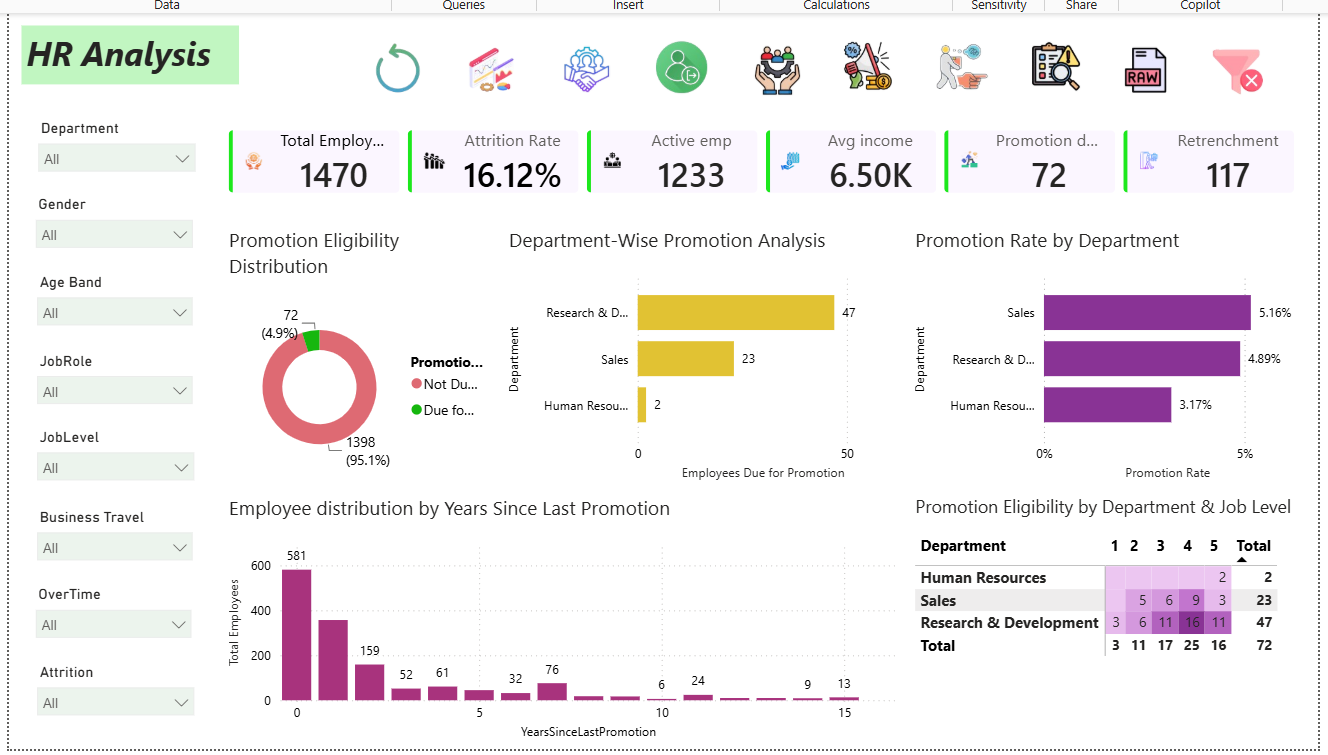

The dashboard page shown, as its layout file describes it:
{"tool":"powerbi","page":{"name":"HR Dashboard","canvas":[1280,720],"ordinal":0},"visuals":[{"type":"textbox","box":[12.1,12.1,212.9,57.9],"z":0},{"type":"ChicletSlicer1448559807354","fields":{"Category":["HR Metrics.HR Metrics"]},"box":[199.3,195.7,1081,99],"z":0,"group":"g1"},{"type":"cardVisual","fields":{"Data":["Measures#.Total Employees","Measures#.Attrition Rate","Measures#.Active Employees","Measures#.Average Monthly Income","Measures#.Promotion Due Employees","Measures#.Retrenchment"]},"box":[198.6,98.1,1081.2,95.6],"z":1000},{"type":"ChicletSlicer1448559807354","fields":{"Category":["HR Attributes.HR Attributes"]},"box":[199.3,303.3,1081,97.8],"z":1000,"group":"g1"},{"type":"slicer","fields":{"Values":["Employee_Master.Department"]},"box":[17.9,98.6,173.6,68.5],"z":2000},{"type":"clusteredColumnChart","fields":{"Category":["Employee_Master.JobLevel"],"Y":["Measures#.Retention Rate","Measures#.Attrition Rate"]},"box":[225,410.9,1043.1,288.6],"z":2000,"group":"g1"},{"type":"slicer","fields":{"Values":["Employee_Master.Gender"]},"box":[16.2,173.8,173.8,68.7],"z":3000},{"type":"slicer","fields":{"Values":["Employee_Master.Age Band"]},"box":[17.5,249.3,172.5,68.7],"z":4000},{"type":"slicer","fields":{"Values":["Employee_Master.JobRole"]},"box":[17.5,326.1,172.5,68.7],"z":5000},{"type":"slicer","fields":{"Values":["Employee_Master.OverTime"]},"box":[16.2,555.2,172.5,68.7],"z":6000},{"type":"slicer","fields":{"Values":["Employee_Master.JobLevel"]},"box":[17.5,401.6,173.8,68.7],"z":7000},{"type":"slicer","fields":{"Values":["Employee_Master.Business Travel"]},"box":[17.5,479.8,172.5,68.7],"z":8000},{"type":"slicer","fields":{"Values":["Employee_Master.Attrition"]},"box":[17.5,630.7,173.8,68.7],"z":9000},{"type":"image","box":[434.2,21,78.2,70.1],"z":10000},{"type":"image","box":[803.5,21,78.2,70.1],"z":11000},{"type":"image","title":"Reset","box":[342.6,21,78,70],"z":12000},{"type":"image","box":[525.9,21,78.2,70.1],"z":13000},{"type":"image","box":[617.5,21,78.2,70.1],"z":14000},{"type":"image","box":[711.8,21,78.2,70.1],"z":15000},{"type":"image","box":[984.3,21.1,78.2,69.5],"z":16000},{"type":"image","box":[1075,21.1,78.2,69.5],"z":17000},{"type":"image","box":[1165.6,21.1,78.2,69.5],"z":18000},{"type":"group","id":"g1","title":"HR Analysis Panel","box":[199.3,195.7,1081,503.8],"z":19000},{"type":"image","box":[893.7,21.1,78.2,69.5],"z":24000}]}

Visuals, with their boxes on the page's 1280x720 design canvas (x1, y1, x2, y2). These are canvas units, not pixel positions in the 1328x755 screenshot, which may show the page scaled, cropped or inside an application window:
textbox: x1=12 y1=12 x2=225 y2=70
ChicletSlicer1448559807354 - HR Metrics.HR Metrics: x1=199 y1=196 x2=1280 y2=295
cardVisual - Measures#.Total Employees x Measures#.Attrition Rate: x1=199 y1=98 x2=1280 y2=194
ChicletSlicer1448559807354 - HR Attributes.HR Attributes: x1=199 y1=303 x2=1280 y2=401
slicer - Employee_Master.Department: x1=18 y1=99 x2=192 y2=167
clusteredColumnChart - Employee_Master.JobLevel x Measures#.Retention Rate: x1=225 y1=411 x2=1268 y2=700
slicer - Employee_Master.Gender: x1=16 y1=174 x2=190 y2=242
slicer - Employee_Master.Age Band: x1=18 y1=249 x2=190 y2=318
slicer - Employee_Master.JobRole: x1=18 y1=326 x2=190 y2=395
slicer - Employee_Master.OverTime: x1=16 y1=555 x2=189 y2=624
slicer - Employee_Master.JobLevel: x1=18 y1=402 x2=191 y2=470
slicer - Employee_Master.Business Travel: x1=18 y1=480 x2=190 y2=548
slicer - Employee_Master.Attrition: x1=18 y1=631 x2=191 y2=699
image: x1=434 y1=21 x2=512 y2=91
image: x1=804 y1=21 x2=882 y2=91
"Reset" image: x1=343 y1=21 x2=421 y2=91
image: x1=526 y1=21 x2=604 y2=91
image: x1=618 y1=21 x2=696 y2=91
image: x1=712 y1=21 x2=790 y2=91
image: x1=984 y1=21 x2=1062 y2=91
image: x1=1075 y1=21 x2=1153 y2=91
image: x1=1166 y1=21 x2=1244 y2=91
"HR Analysis Panel" group: x1=199 y1=196 x2=1280 y2=700
image: x1=894 y1=21 x2=972 y2=91
